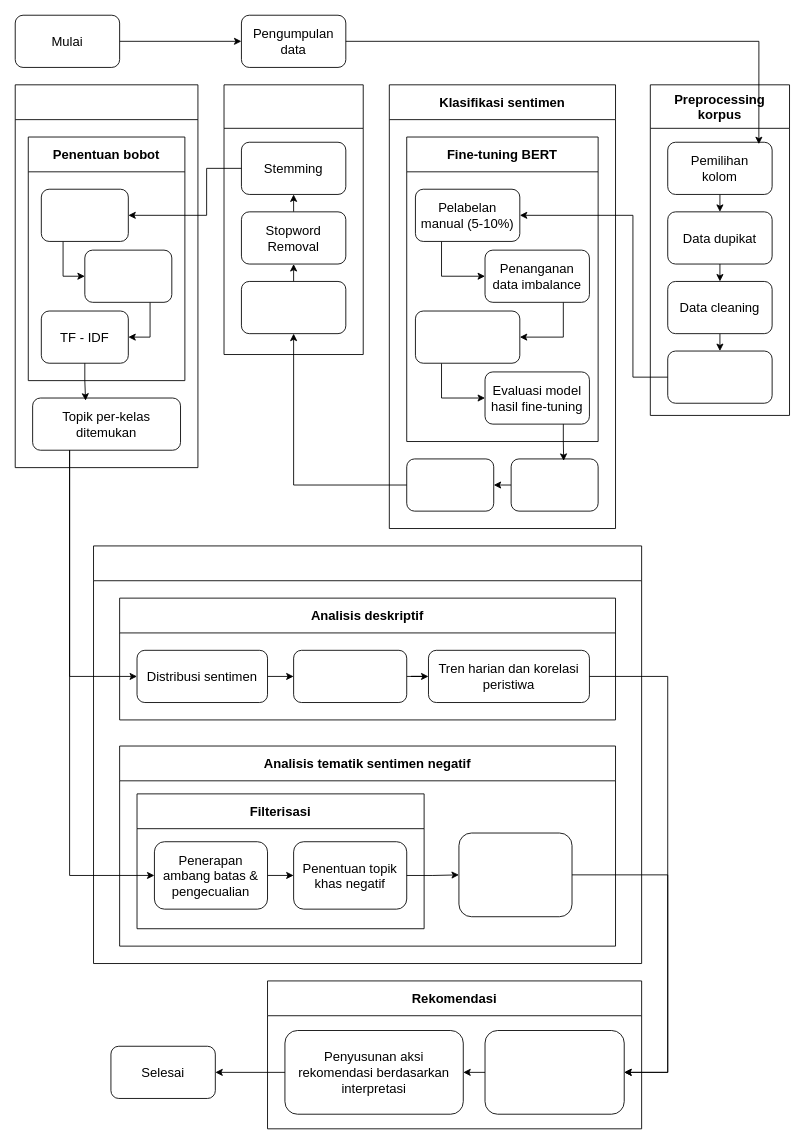
The diagram is 805 pixels wide and 1144 high, and some of its shapes have lost their labels. Each missing label, with the box of its shape:
Analisis sentimen: (93, 545, 642, 964)
Ekstraksi topik TF-IDF: (14, 84, 198, 468)
Evaluasi: (406, 458, 494, 511)
IDF: (84, 249, 172, 302)
Interpretasi analsisi sentimen: (484, 1030, 624, 1114)
Klasifikasi otomatis: (510, 458, 598, 511)
Korpus akhir: (667, 350, 772, 403)
Pelatihan model: (415, 310, 520, 363)
Penentuan & pengelompokan tema utama: (458, 832, 572, 917)
Preprocessing TF-IDF: (223, 84, 363, 355)
TF: (40, 188, 128, 241)
Tokenisasi: (241, 281, 346, 334)
Wordcloud: (293, 649, 407, 703)
